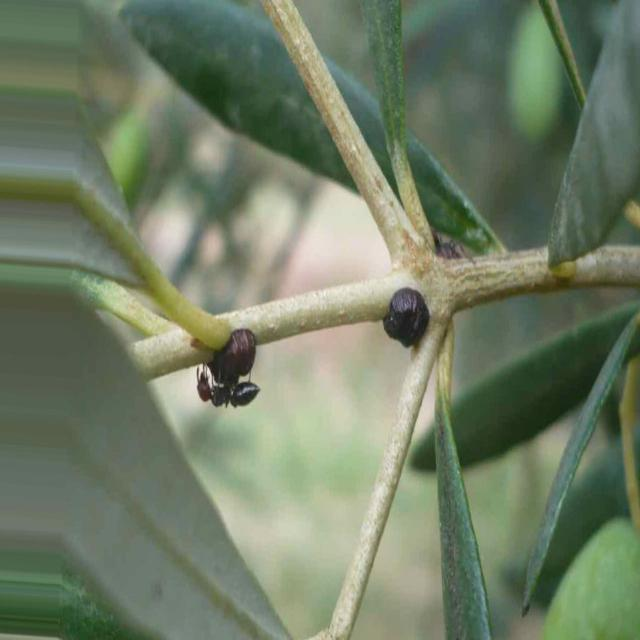BlackScale: (382, 287, 430, 348), (208, 329, 256, 388)
